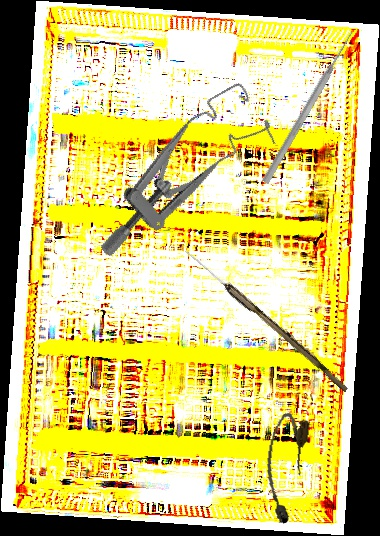Cannula: (257, 410, 312, 527)
Pusher: (260, 29, 357, 186)
Speculum: (63, 78, 289, 260)
Surgical Spoon: (181, 247, 352, 393)
